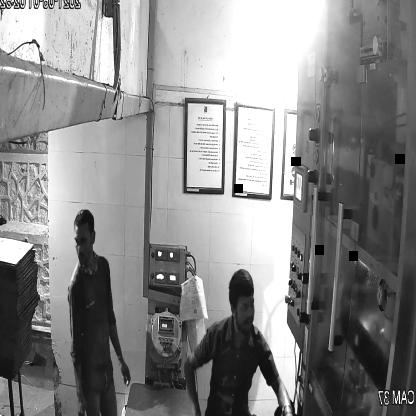no_goggles: (229, 292, 259, 318), (72, 228, 97, 251)
